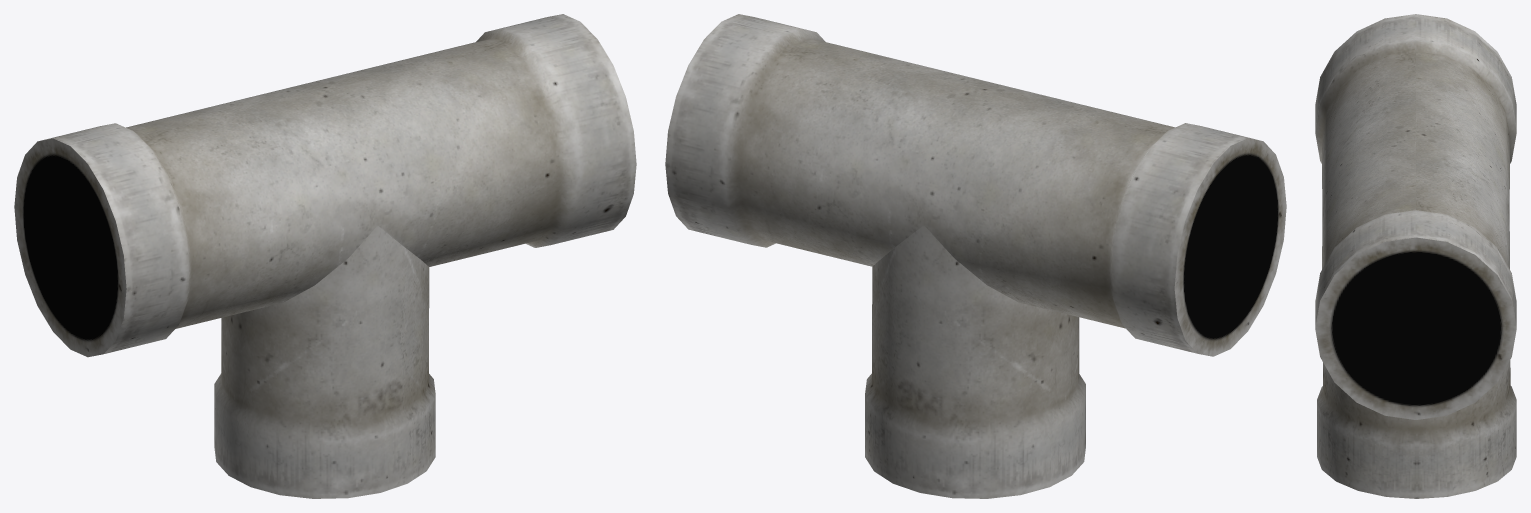
The model's file is PlasticPipe_12a_snaps011.fbx.
3 renders of one model, left to right at view 1: azimuth 30°, elevation 25°; view 2: azimuth 150°, elevation 25°; view 3: azimuth 270°, elevation 25°, orthographic. The views are drawn at different scales.
Parts seen in each view (by area): view 1: PlasticPipe_12a_snaps011_LOD0; view 2: PlasticPipe_12a_snaps011_LOD0; view 3: PlasticPipe_12a_snaps011_LOD0.
Boxes of the visible parts, x1=… form: PlasticPipe_12a_snaps011_LOD0: x1=14, y1=14, x2=636, y2=498; PlasticPipe_12a_snaps011_LOD0: x1=665, y1=14, x2=1286, y2=498; PlasticPipe_12a_snaps011_LOD0: x1=1315, y1=14, x2=1516, y2=498.
Size of what is drawn, in the model's own units: 70 by 48.35 by 26.68.
